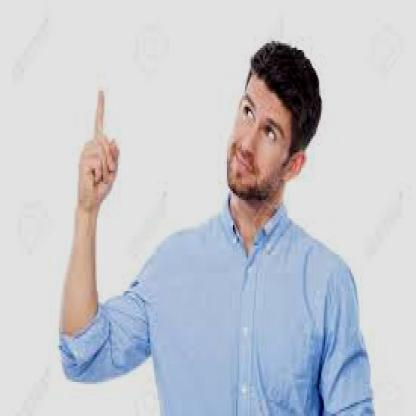Up: (72, 74, 124, 215)
